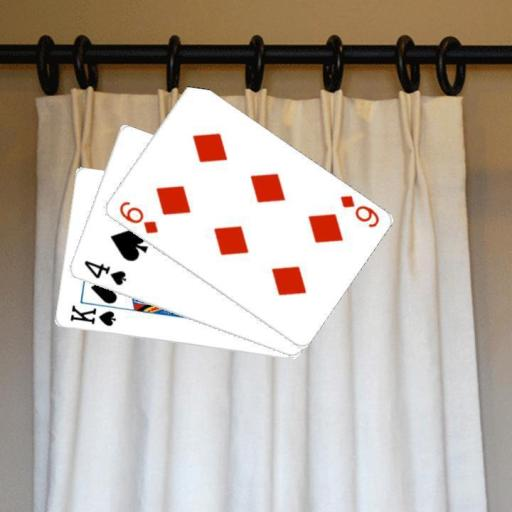card-corner: (336, 192, 380, 230), (115, 198, 159, 235), (80, 258, 128, 288), (66, 302, 117, 329)
